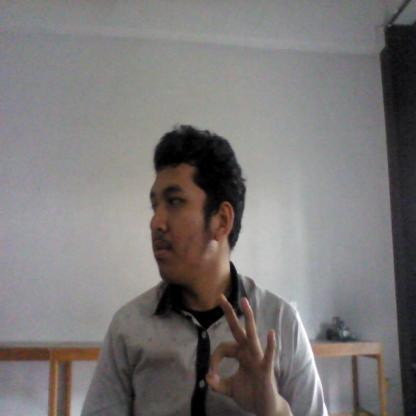O: (194, 290, 286, 411)
